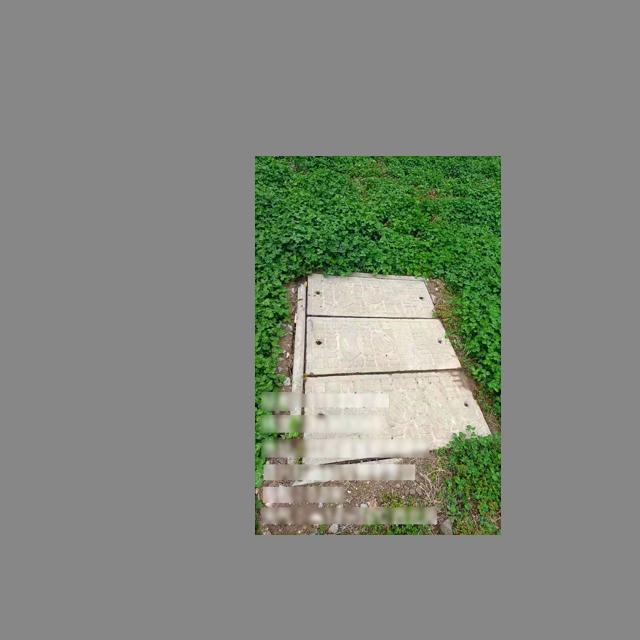good: (288, 267, 493, 485)
